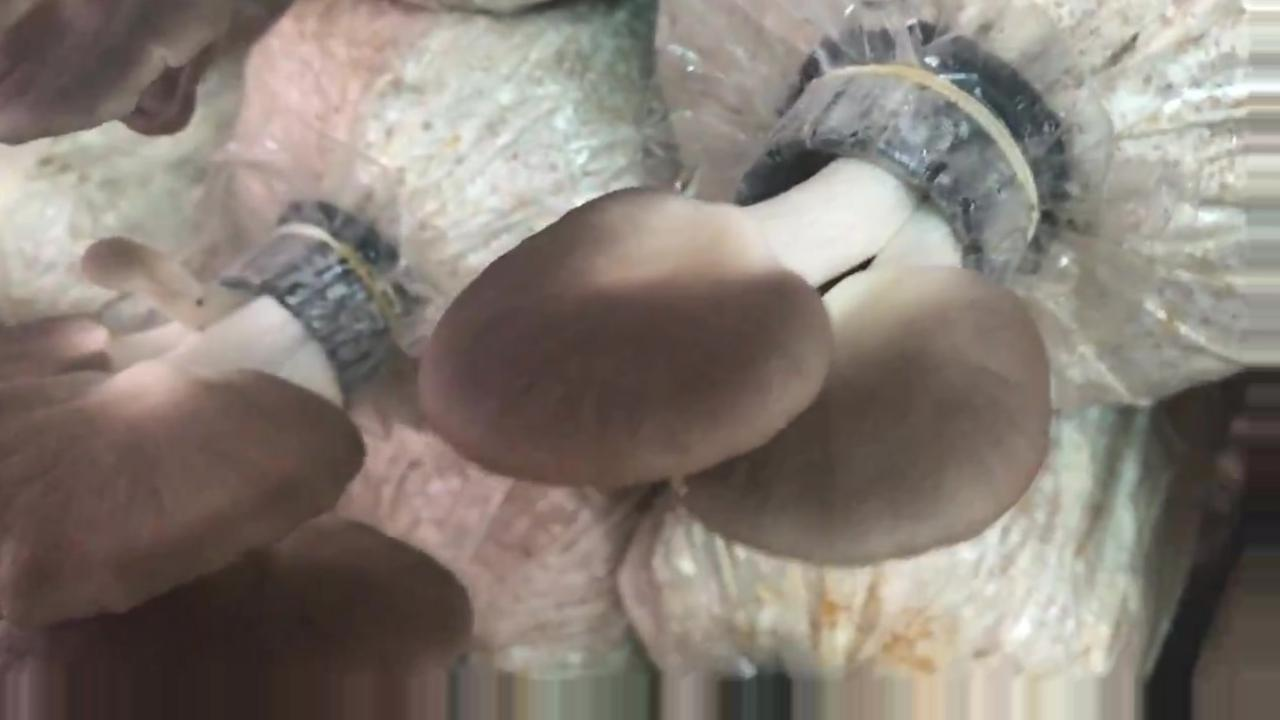nam: (420, 63, 1055, 570), (1, 225, 474, 718)
